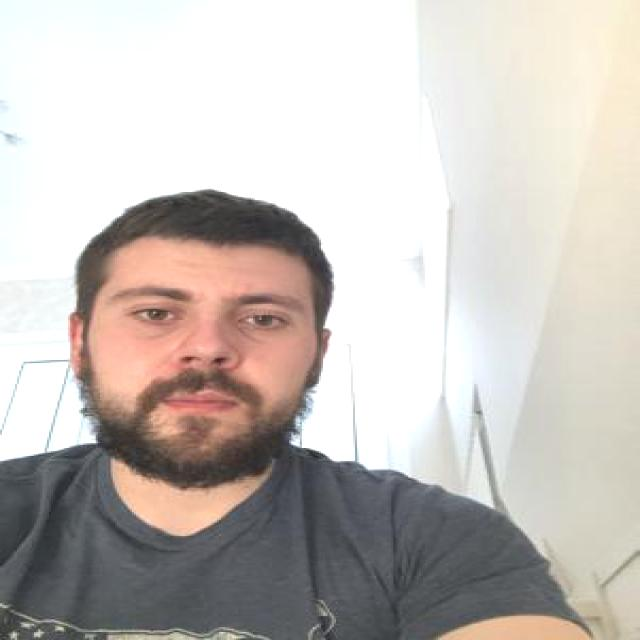face_nomask: (89, 269, 315, 491)
head_nohelmet: (56, 190, 326, 268)
person: (0, 185, 570, 640)
